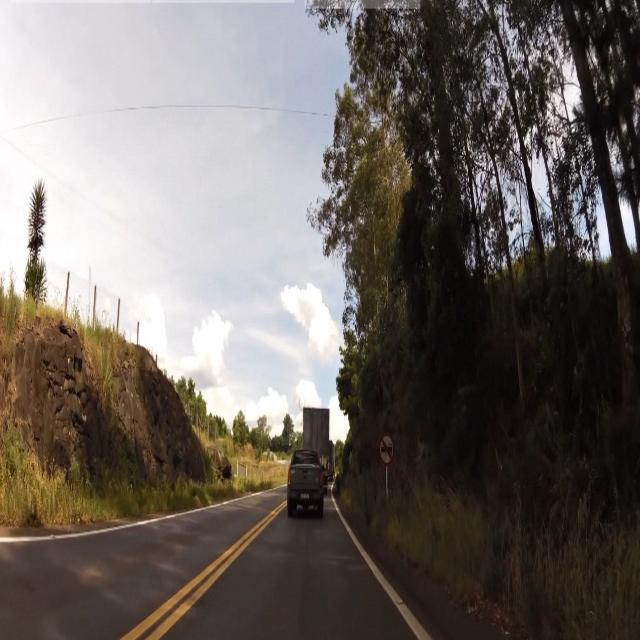R-7: (376, 435, 400, 471)
